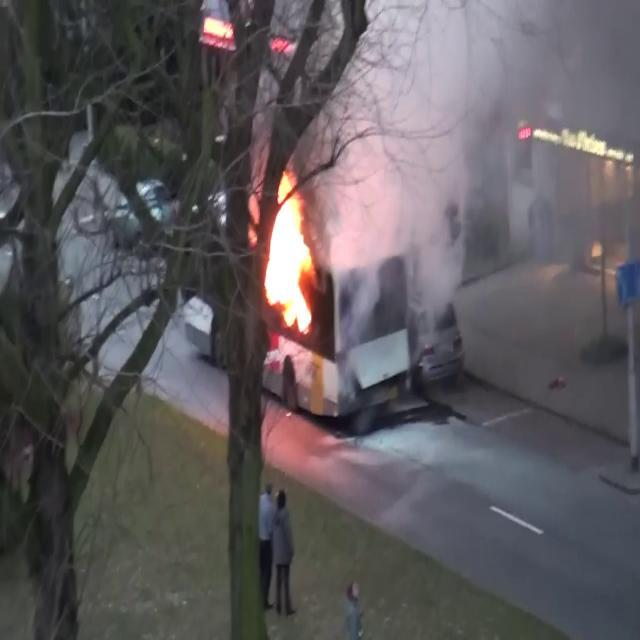Fire: (259, 171, 322, 345)
Smoke: (333, 0, 593, 357)
